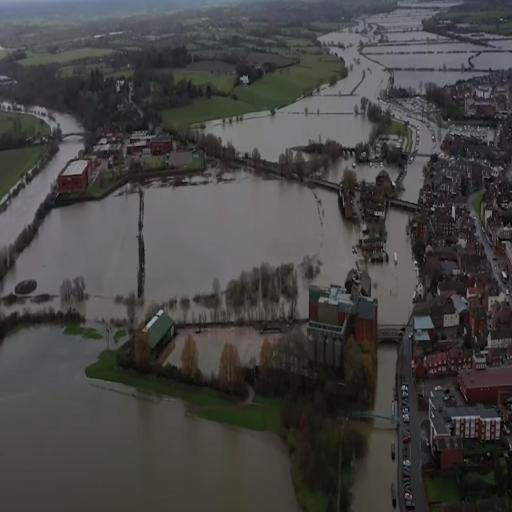flood: (0, 325, 298, 511), (143, 172, 358, 306), (205, 28, 389, 160), (0, 188, 138, 319), (361, 1, 512, 93), (0, 135, 83, 247), (0, 136, 82, 247), (369, 208, 416, 324), (208, 113, 336, 154), (350, 419, 398, 512), (375, 343, 399, 417), (399, 156, 430, 202), (404, 156, 430, 199), (410, 115, 439, 153), (323, 156, 353, 182), (52, 110, 83, 133), (356, 162, 383, 182), (385, 163, 401, 180)
house: (425, 392, 503, 468), (132, 308, 175, 371), (456, 363, 512, 409), (309, 282, 353, 333), (411, 302, 436, 370), (58, 156, 92, 196), (354, 296, 378, 348), (433, 211, 456, 237), (487, 330, 512, 350), (150, 133, 174, 153), (444, 305, 460, 327)
